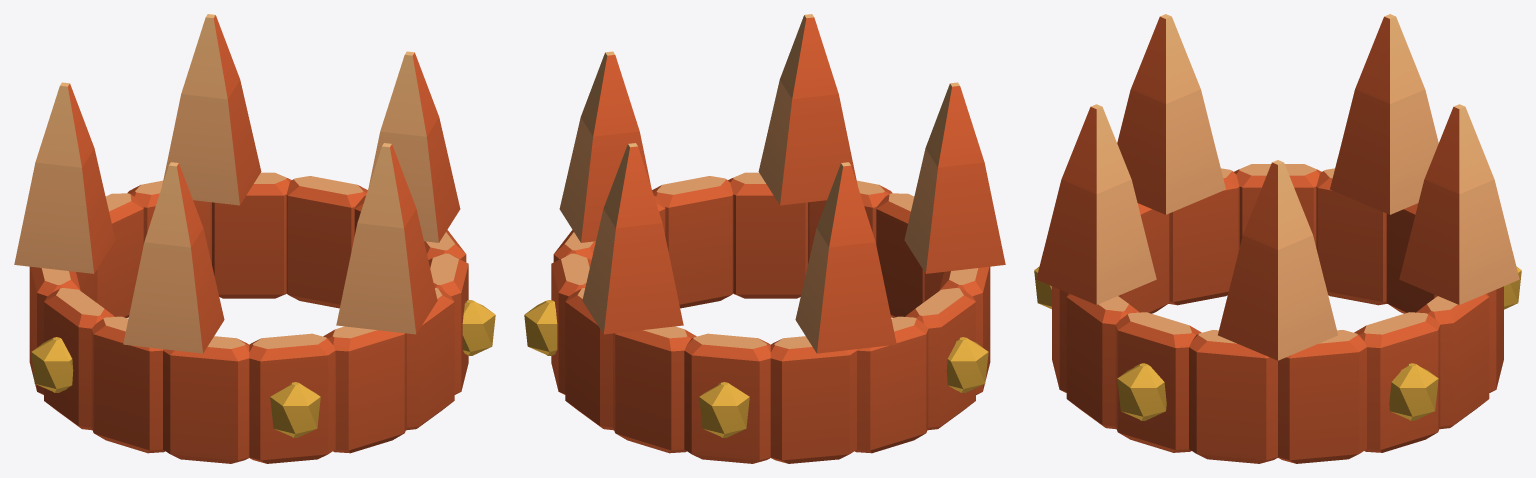
File: EliteCrownExplosive.fbx
3 renders of one model, left to right at view 1: azimuth 30°, elevation 25°; view 2: azimuth 150°, elevation 25°; view 3: azimuth 270°, elevation 25°, orthographic. The views are drawn at different scales.
Parts seen in each view (by area): view 1: Band, Spikes, Gems; view 2: Band, Spikes, Gems; view 3: Band, Spikes, Gems.
Part boxes in pixels (left/top/right/bottom): Band: left=29, top=172, right=468, bottom=463; Spikes: left=14, top=14, right=460, bottom=353; Gems: left=31, top=300, right=495, bottom=437; Band: left=551, top=172, right=990, bottom=463; Spikes: left=559, top=14, right=1005, bottom=353; Gems: left=524, top=300, right=988, bottom=437; Band: left=1052, top=164, right=1503, bottom=463; Spikes: left=1036, top=14, right=1519, bottom=360; Gems: left=1034, top=266, right=1521, bottom=420.
Size of the model in its own units: 0.504 by 0.32 by 0.4856.
Materials: 2 (2 with a texture image).
